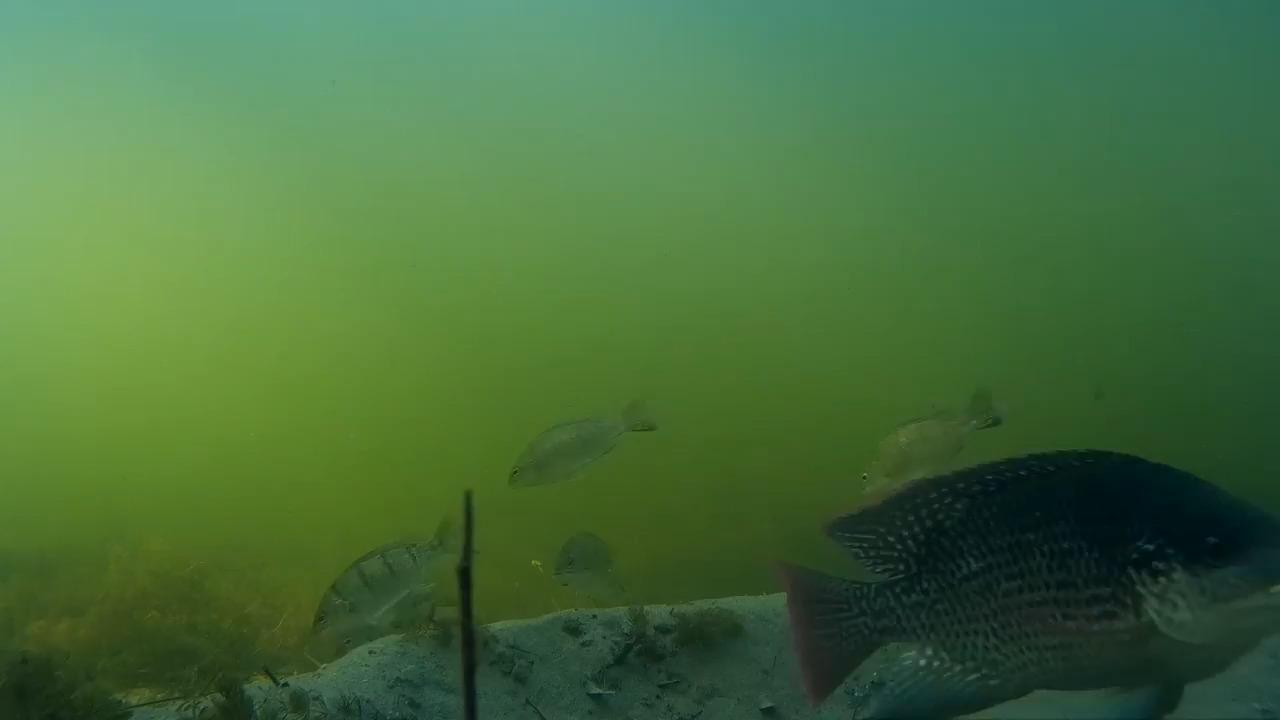Tilapia: (802, 400, 1280, 720), (297, 518, 460, 662), (841, 378, 1006, 502), (490, 400, 665, 498), (534, 528, 639, 616)
